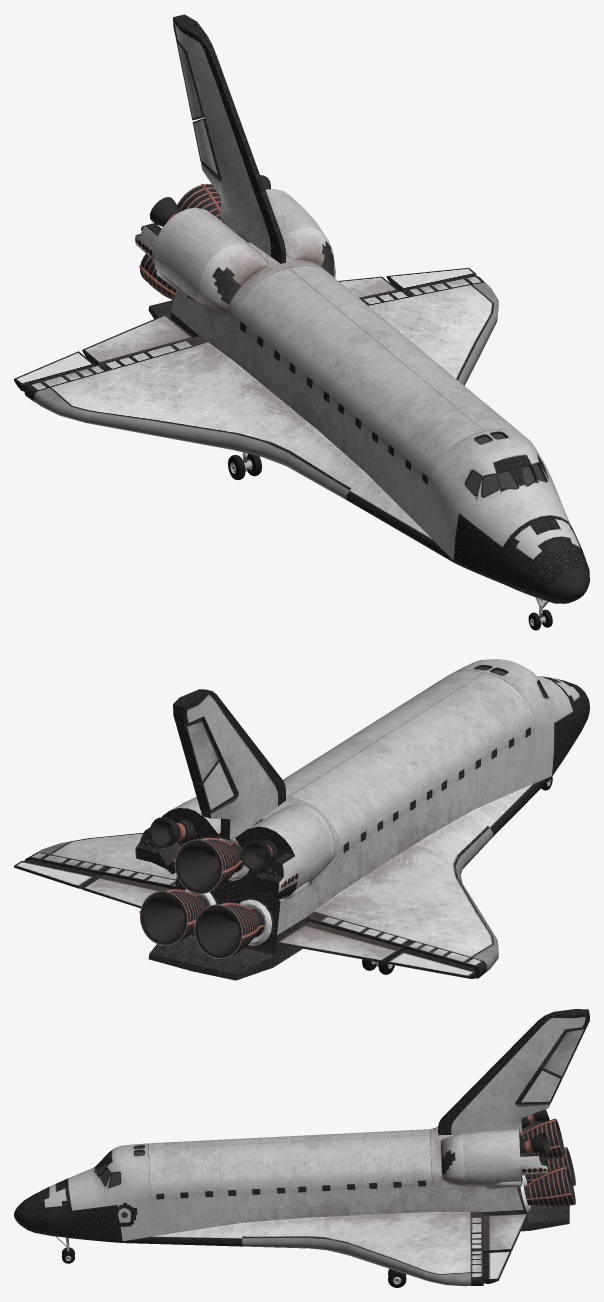
The model's file is space_shuttle.glb.
3 renders of one model, top to bottom at view 1: azimuth 30°, elevation 25°; view 2: azimuth 150°, elevation 25°; view 3: azimuth 270°, elevation 25°, orthographic. The views are drawn at different scales.
Parts seen in each view (by area): view 1: space_shuttle.1; view 2: space_shuttle.1; view 3: space_shuttle.1.
Part boxes in pixels (bbox=[...]): space_shuttle.1: bbox=[14, 14, 589, 630]; space_shuttle.1: bbox=[14, 659, 589, 980]; space_shuttle.1: bbox=[14, 1009, 589, 1287].
Bounding box in the file's own units: 0.6688 × 0.4883 × 1.02.
Materials: 1 (1 with a texture image).
